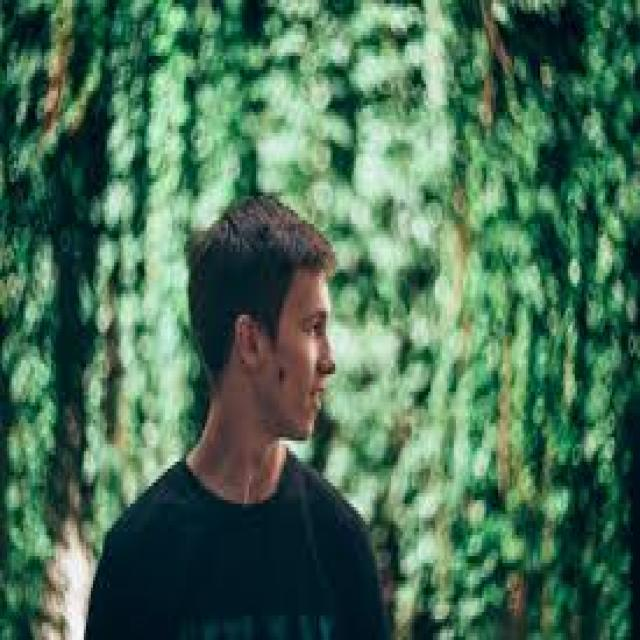Edited images: (73, 168, 415, 640)
